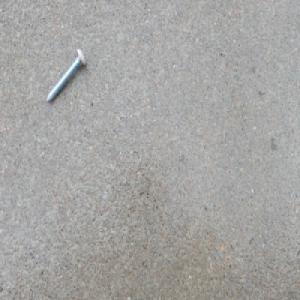Nail: (45, 46, 87, 104)
